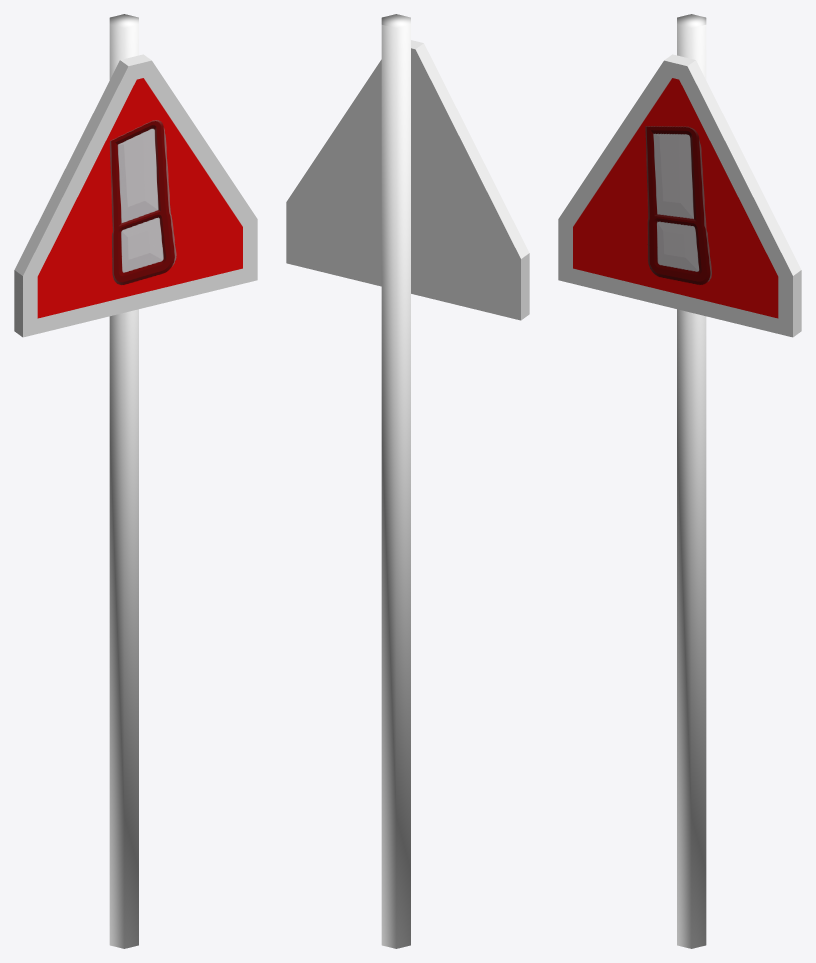
The model's file is SignWarning.fbx.
3 renders of one model, left to right at view 1: azimuth 30°, elevation 25°; view 2: azimuth 150°, elevation 25°; view 3: azimuth 330°, elevation 25°, orthographic.
Parts seen in each view (by area): view 1: Sign; view 2: Sign; view 3: Sign.
Boxes of the visible parts, bbox=[...] form: Sign: bbox=[14, 14, 257, 948]; Sign: bbox=[286, 14, 529, 948]; Sign: bbox=[558, 14, 801, 948].
Bounding box in the file's own units: 0.8 × 3 × 0.1366.
Materials: 1 (1 with a texture image).
